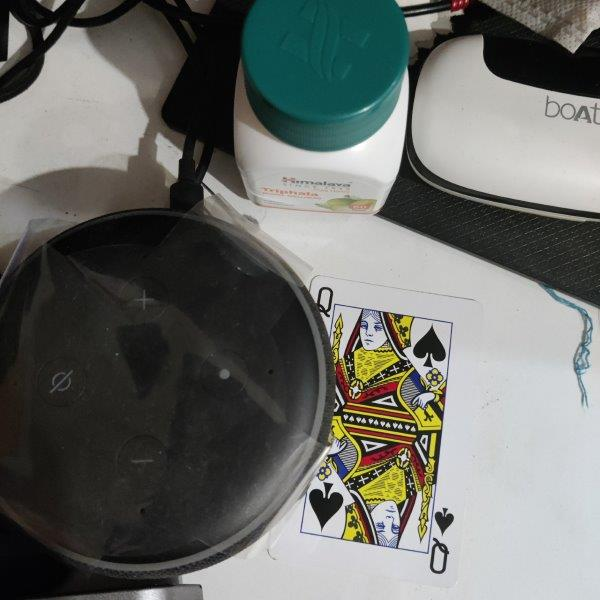Queen of Spades: (266, 276, 482, 589)
